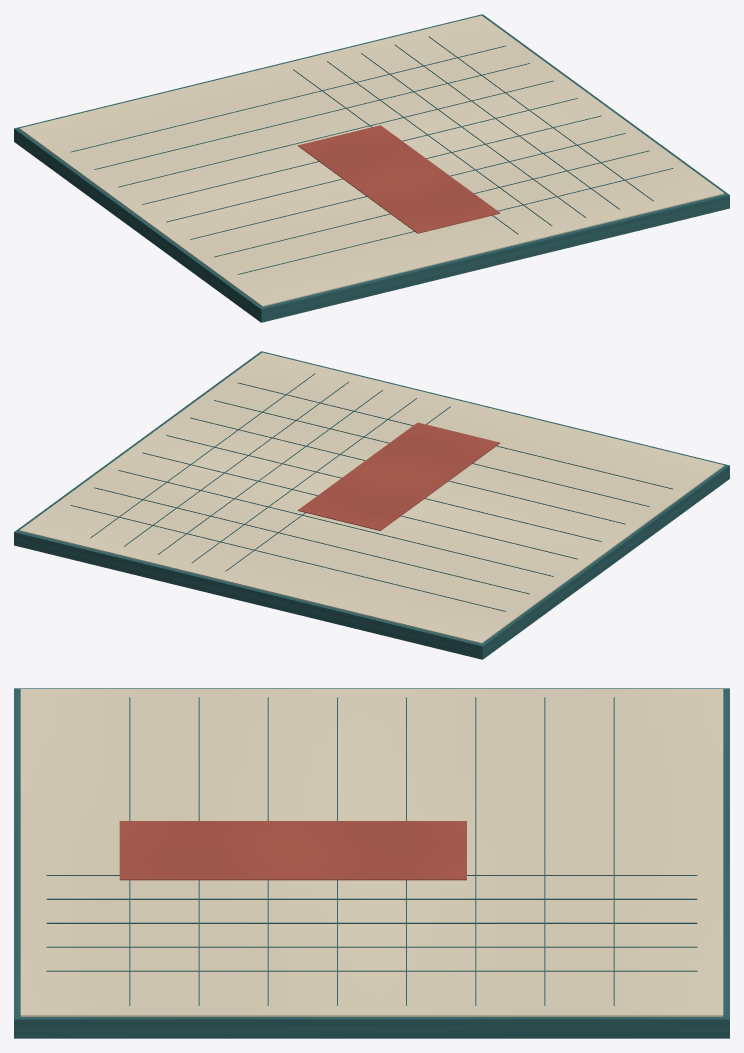
The model's file is atlas100-s031-a07.lod2.glb.
3 views of the same model, one above another, from view 1: azimuth 30°, elevation 25°; view 2: azimuth 150°, elevation 25°; view 3: azimuth 270°, elevation 25° (orthographic). The views are drawn at different scales.
Visible parts, largest first — view 1: atlas100-s031-a07:part-001, atlas100-s031-a07:part-000, atlas100-s031-a07:part-021, atlas100-s031-a07:part-015, atlas100-s031-a07:part-013, atlas100-s031-a07:part-014, atlas100-s031-a07:part-017, atlas100-s031-a07:part-016, atlas100-s031-a07:part-018, atlas100-s031-a07:part-019, atlas100-s031-a07:part-020; view 2: atlas100-s031-a07:part-001, atlas100-s031-a07:part-000, atlas100-s031-a07:part-021, atlas100-s031-a07:part-013, atlas100-s031-a07:part-014, atlas100-s031-a07:part-015, atlas100-s031-a07:part-016, atlas100-s031-a07:part-018, atlas100-s031-a07:part-019, atlas100-s031-a07:part-017, atlas100-s031-a07:part-020; view 3: atlas100-s031-a07:part-001, atlas100-s031-a07:part-000, atlas100-s031-a07:part-021, atlas100-s031-a07:part-009, atlas100-s031-a07:part-011, atlas100-s031-a07:part-012, atlas100-s031-a07:part-010, atlas100-s031-a07:part-013, atlas100-s031-a07:part-014, atlas100-s031-a07:part-015.
Part boxes in pixels (<box>): atlas100-s031-a07:part-001: <box>19,15,724,306</box>; atlas100-s031-a07:part-000: <box>14,14,729,322</box>; atlas100-s031-a07:part-021: <box>297,125,500,233</box>; atlas100-s031-a07:part-015: <box>118,80,553,187</box>; atlas100-s031-a07:part-013: <box>71,45,505,152</box>; atlas100-s031-a07:part-014: <box>94,63,529,169</box>; atlas100-s031-a07:part-017: <box>166,115,601,222</box>; atlas100-s031-a07:part-016: <box>142,98,577,204</box>; atlas100-s031-a07:part-018: <box>190,133,625,239</box>; atlas100-s031-a07:part-019: <box>214,150,649,257</box>; atlas100-s031-a07:part-020: <box>238,168,673,274</box>; atlas100-s031-a07:part-001: <box>19,352,724,643</box>; atlas100-s031-a07:part-000: <box>14,351,729,659</box>; atlas100-s031-a07:part-021: <box>297,422,500,530</box>; atlas100-s031-a07:part-013: <box>70,505,505,611</box>; atlas100-s031-a07:part-014: <box>94,487,529,594</box>; atlas100-s031-a07:part-015: <box>118,470,553,576</box>; atlas100-s031-a07:part-016: <box>142,452,577,559</box>; atlas100-s031-a07:part-018: <box>190,417,625,524</box>; atlas100-s031-a07:part-019: <box>214,400,649,506</box>; atlas100-s031-a07:part-017: <box>166,435,601,541</box>; atlas100-s031-a07:part-020: <box>238,382,672,489</box>; atlas100-s031-a07:part-001: <box>20,689,723,1016</box>; atlas100-s031-a07:part-000: <box>14,688,729,1038</box>; atlas100-s031-a07:part-021: <box>119,821,466,880</box>; atlas100-s031-a07:part-009: <box>46,898,697,899</box>; atlas100-s031-a07:part-011: <box>46,946,697,947</box>; atlas100-s031-a07:part-012: <box>46,970,697,971</box>; atlas100-s031-a07:part-010: <box>46,922,697,923</box>; atlas100-s031-a07:part-013: <box>613,697,614,1005</box>; atlas100-s031-a07:part-014: <box>544,697,545,1005</box>; atlas100-s031-a07:part-015: <box>475,697,476,1005</box>.
Size of the model in its own units: 12.46 by 0.404 by 11.39.
3 materials, 3 textured.
